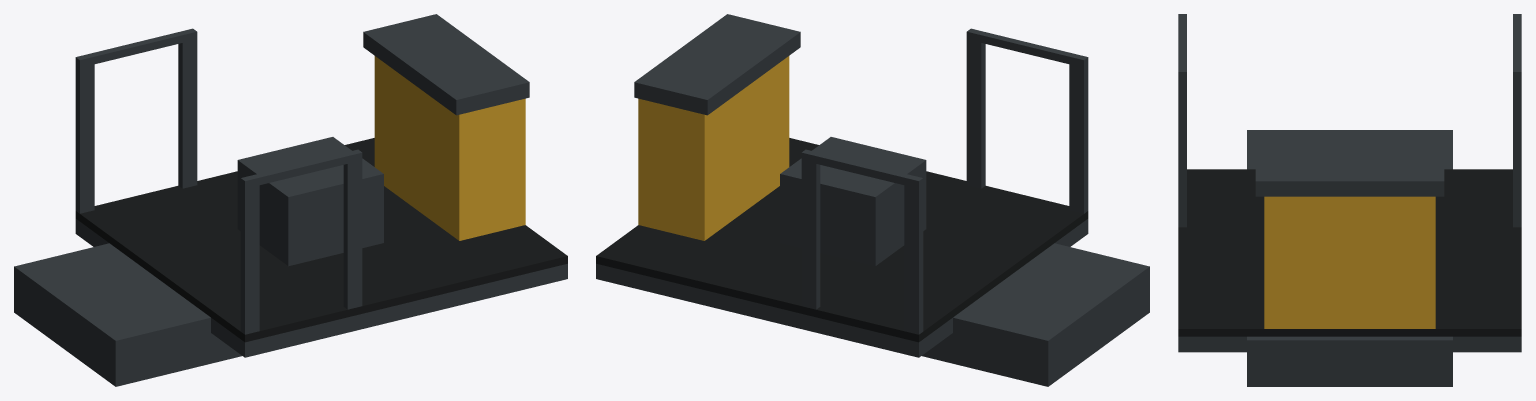
Rendered from road_roller_platform.glb.
The picture shows the model from 3 angles, left to right: view 1: azimuth 30°, elevation 25°; view 2: azimuth 150°, elevation 25°; view 3: azimuth 270°, elevation 25°; orthographic projection.
Parts seen in each view (by area): view 1: body:compound; view 2: body:compound; view 3: body:compound.
Part boxes in pixels (x1,y1,x2,y2): body:compound: (14, 14, 567, 386); body:compound: (596, 14, 1149, 386); body:compound: (1178, 14, 1521, 386).
Bounding box in the file's own units: 1.81 × 0.8438 × 1.25.
